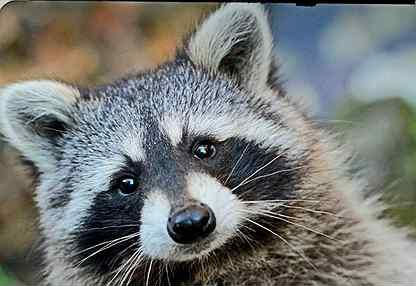raccoon: (0, 3, 403, 286)
